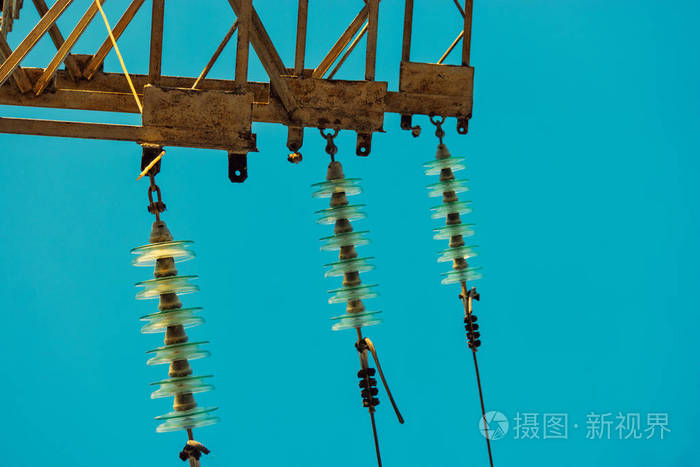insulator: (131, 237, 222, 435), (312, 176, 381, 332), (423, 155, 485, 285)
